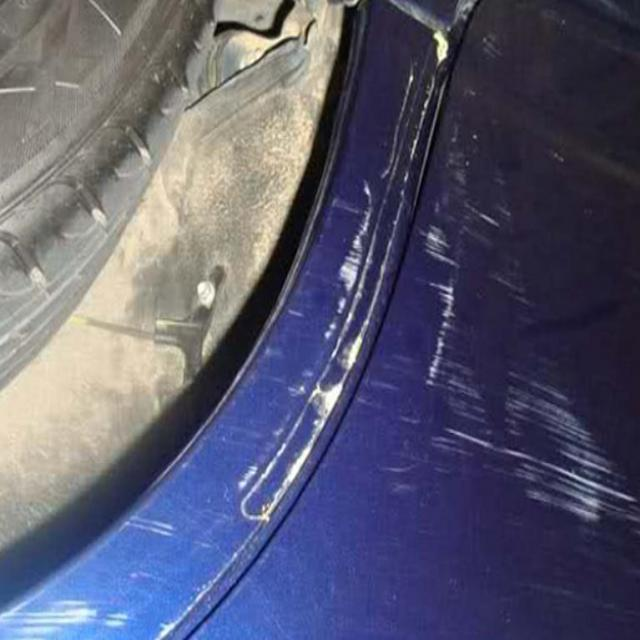scratch: (155, 79, 490, 614), (500, 348, 630, 555)
